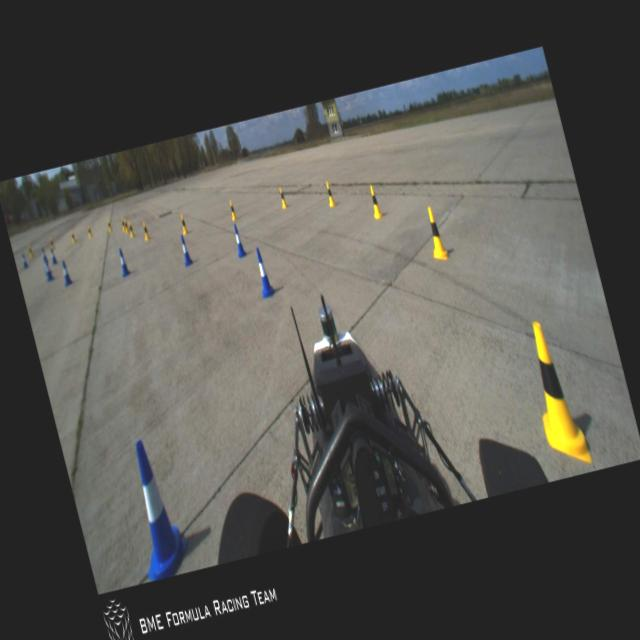blue_cone: (116, 434, 194, 582), (250, 245, 275, 298), (230, 222, 247, 258), (178, 233, 193, 266), (58, 259, 74, 286), (116, 247, 130, 277), (42, 258, 54, 282), (48, 246, 58, 264), (40, 246, 49, 262), (20, 254, 29, 268)
yellow_cone: (518, 314, 593, 474), (422, 204, 449, 262), (366, 183, 383, 220), (323, 179, 336, 208), (276, 185, 288, 210), (226, 198, 238, 220), (140, 220, 151, 241), (178, 212, 188, 235), (126, 220, 135, 238), (85, 222, 94, 238), (48, 236, 56, 251), (69, 229, 77, 244), (105, 218, 113, 233), (26, 244, 34, 258), (119, 216, 126, 232), (122, 218, 130, 232)
